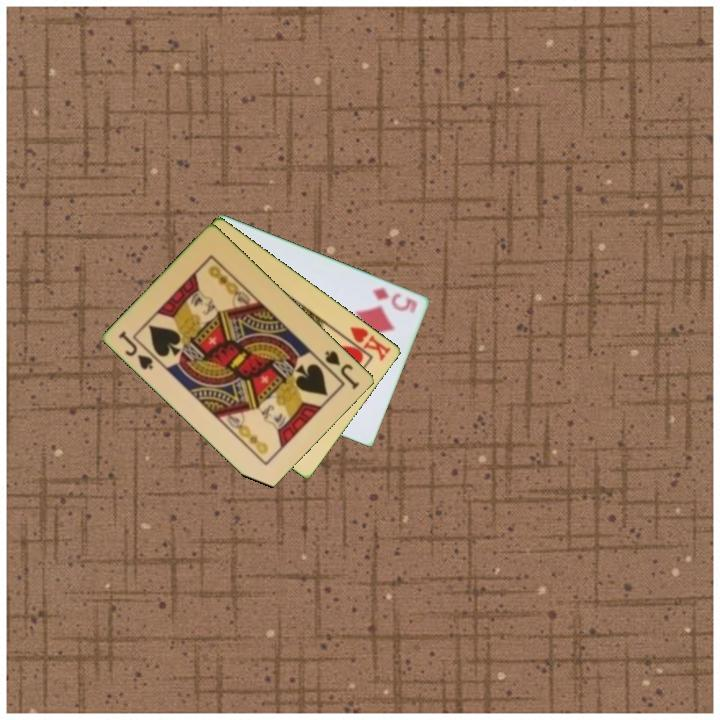5d: (369, 283, 421, 316)
Js: (321, 347, 363, 392), (115, 327, 156, 373)
Kh: (338, 323, 394, 364)
